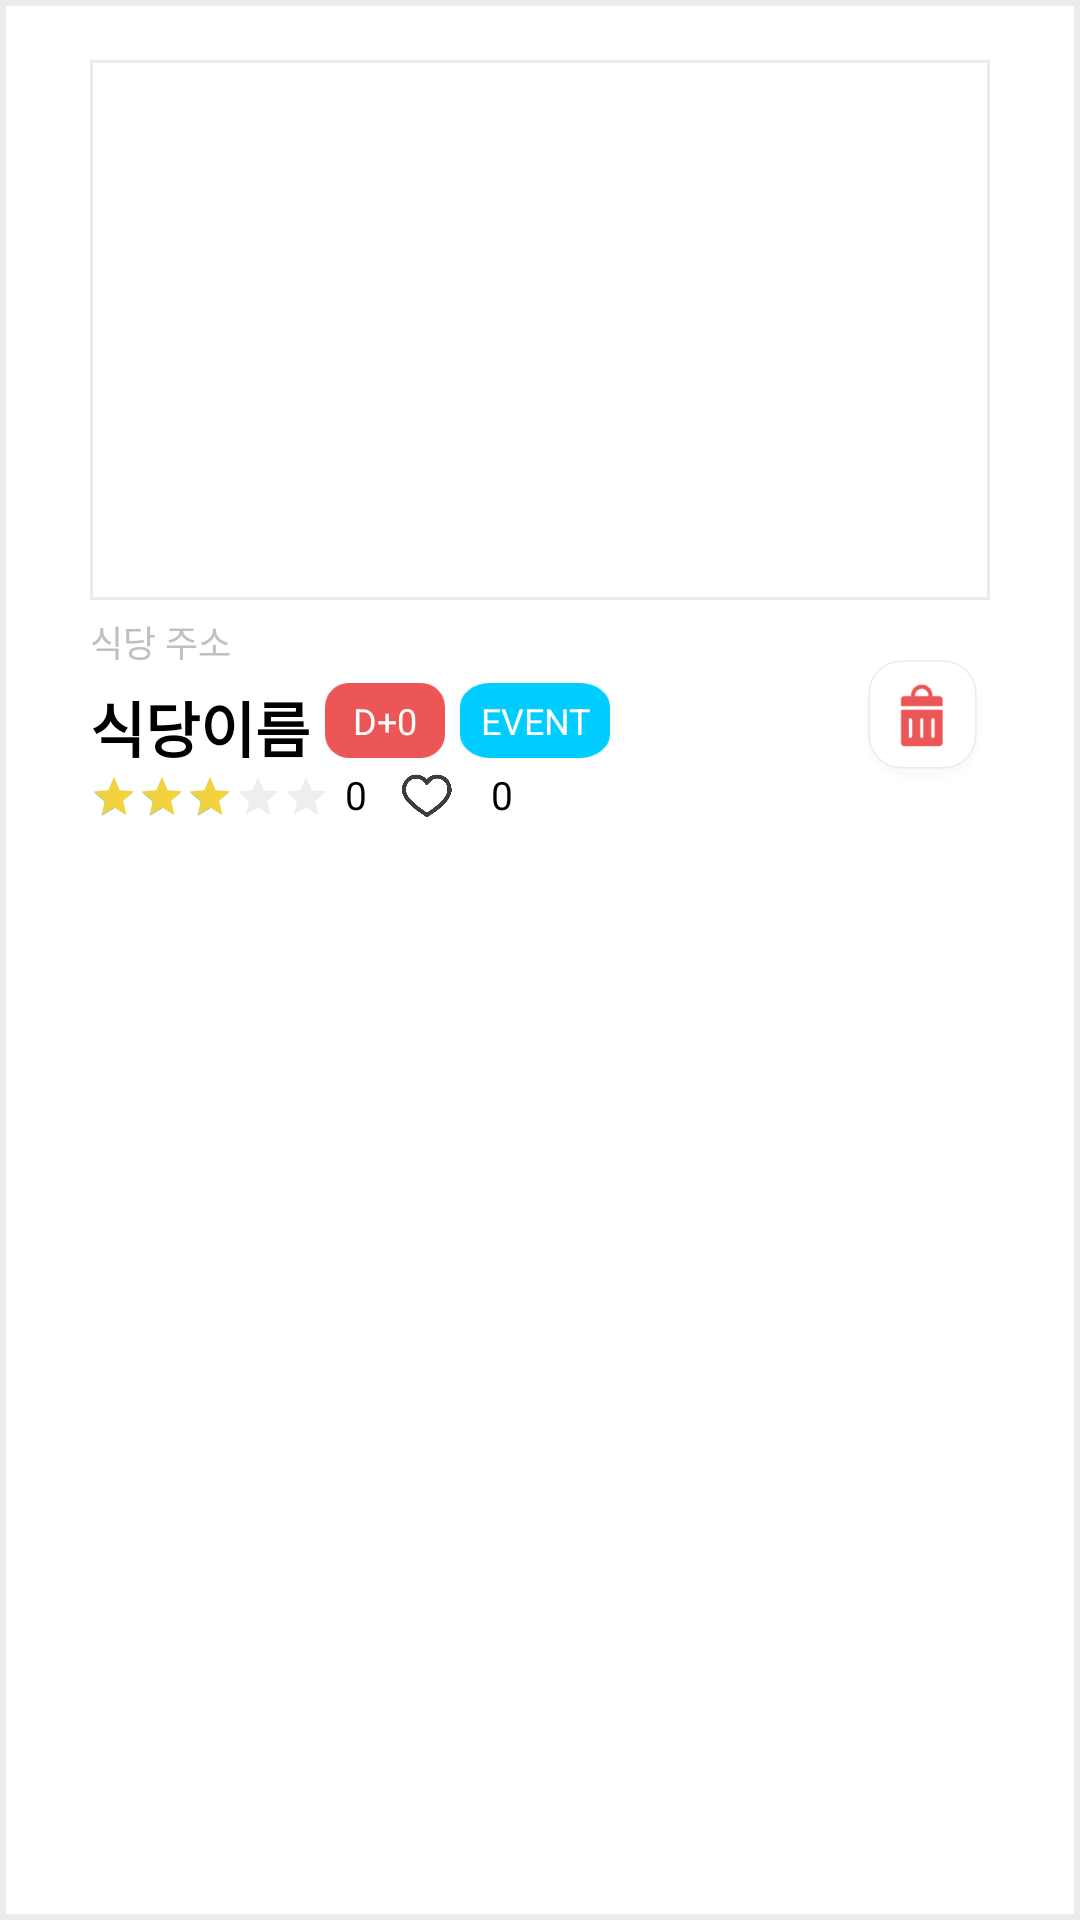

Icon bounding boxes for this 1080px x 1920px phone screenshot, format [x1=x1, y1=y1, x2=x2, y2=y2]:
heart states: [x1=402, y1=775, x2=452, y2=817]
